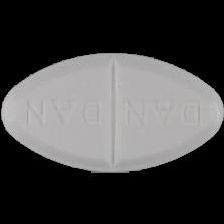0591-5571: (0, 0, 224, 224)
